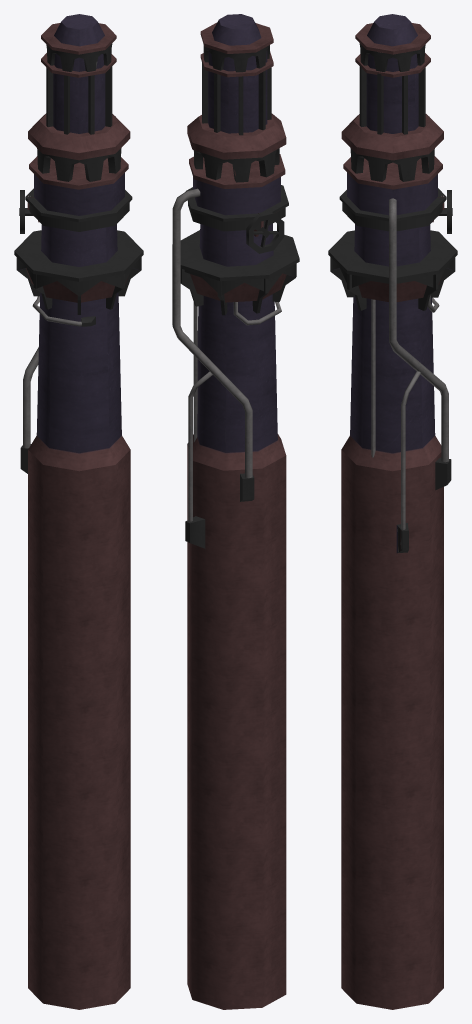
File: CHM0310173.fbx
3 views of the same model, side by side, from view 1: azimuth 90°, elevation 25°; view 2: azimuth 210°, elevation 25°; view 3: azimuth 270°, elevation 25° (orthographic).
Visible parts, largest first — view 1: smCHM0310173; view 2: smCHM0310173; view 3: smCHM0310173.
Boxes of the visible parts, x1,y1,x2,y2 form: smCHM0310173: (14, 14, 143, 1009); smCHM0310173: (172, 14, 299, 1009); smCHM0310173: (328, 14, 457, 1009).
Size of the model in its own units: 301 by 2313 by 281.
